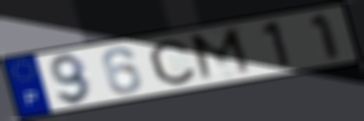1: (308, 12, 347, 62), (261, 19, 294, 71)
6: (100, 46, 144, 96)
9: (49, 52, 95, 106)
C: (147, 38, 198, 86)
M: (186, 25, 258, 84)
